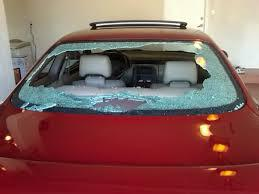Rear-windscreen-Damage: (7, 35, 247, 124)
